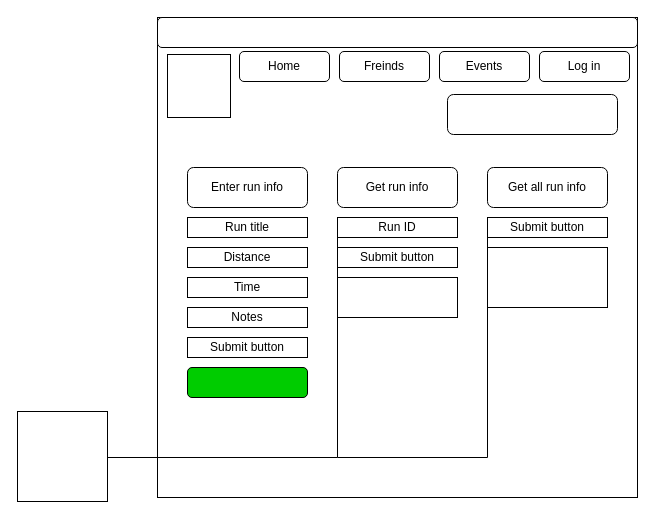
Some shapes in this 655 by 519 pixel diagram are drawn without their labels. The shapes that lost their labels are listed below. From the top down, each one's centre as x and y in pixels, then its label:
At [397,32]: "Page name".
At [198,86]: "Logo".
At [532,114]: "Local weather report".
At [397,297]: "Individual run data display".
At [547,277]: "Data display in rows".
At [247,382]: "Output of run ID".
At [62,456]: "Run ID and Submit button disappear on click".
